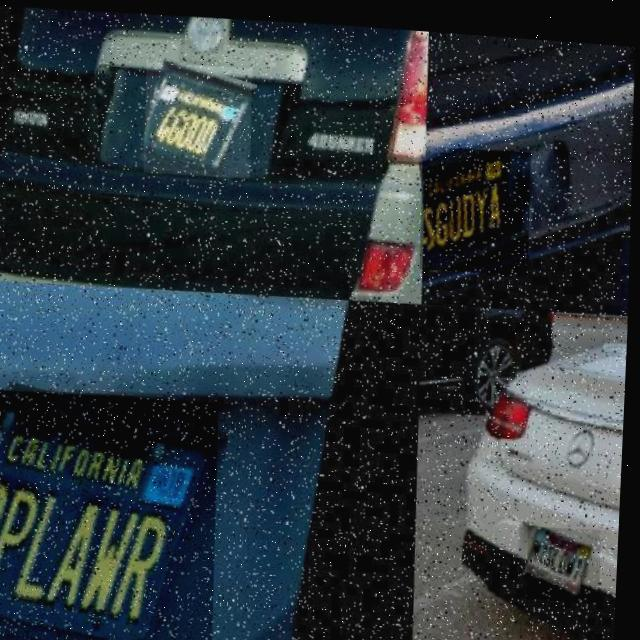LicensePlate: (0, 384, 226, 640), (419, 137, 534, 268), (142, 58, 254, 176), (531, 518, 605, 592)
